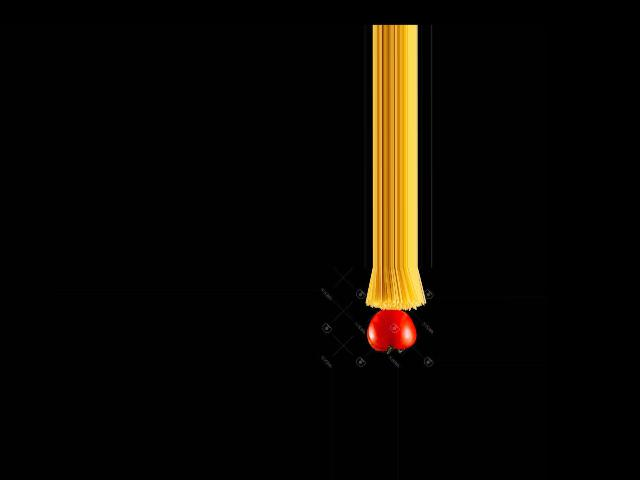tomato: (368, 309, 416, 351)
